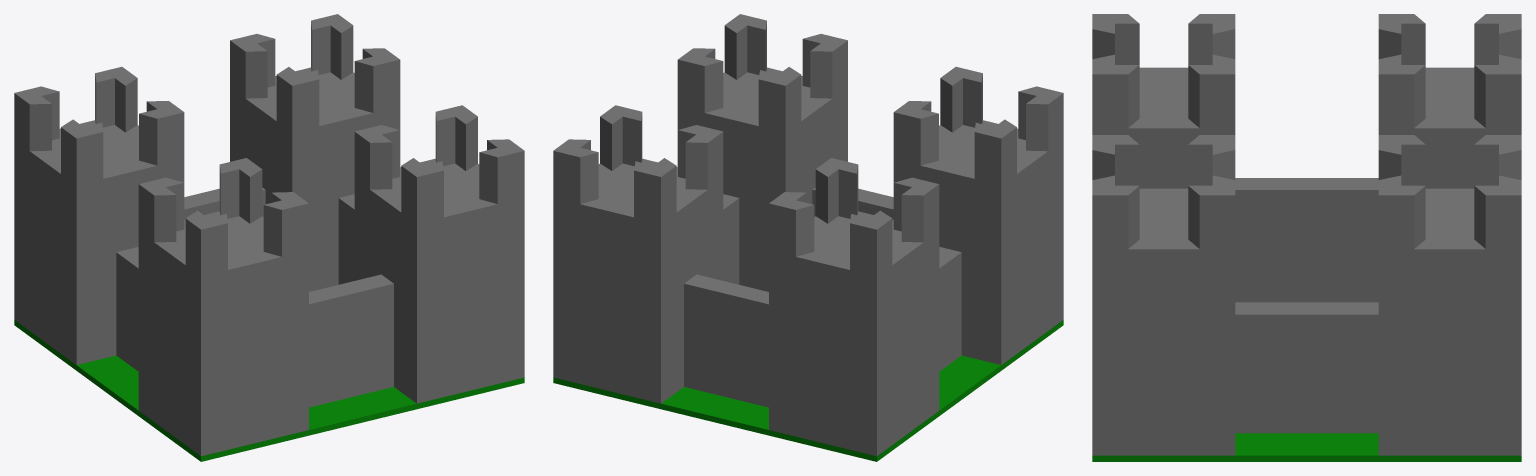
The model's file is BasePrefab.fbx.
3 renders of one model, left to right at view 1: azimuth 30°, elevation 25°; view 2: azimuth 150°, elevation 25°; view 3: azimuth 270°, elevation 25°, orthographic. The views are drawn at different scales.
Visible parts, largest first — view 1: pCube1, pCube2; view 2: pCube1, pCube2; view 3: pCube1, pCube2.
Boxes of the visible parts, x1,y1,x2,y2 form: pCube1: (14, 14, 524, 461); pCube2: (116, 187, 393, 407); pCube1: (553, 14, 1063, 461); pCube2: (684, 187, 961, 407); pCube1: (1092, 14, 1521, 461); pCube2: (1235, 178, 1378, 433).
Size of the model in its own units: 60 by 41.14 by 60.
